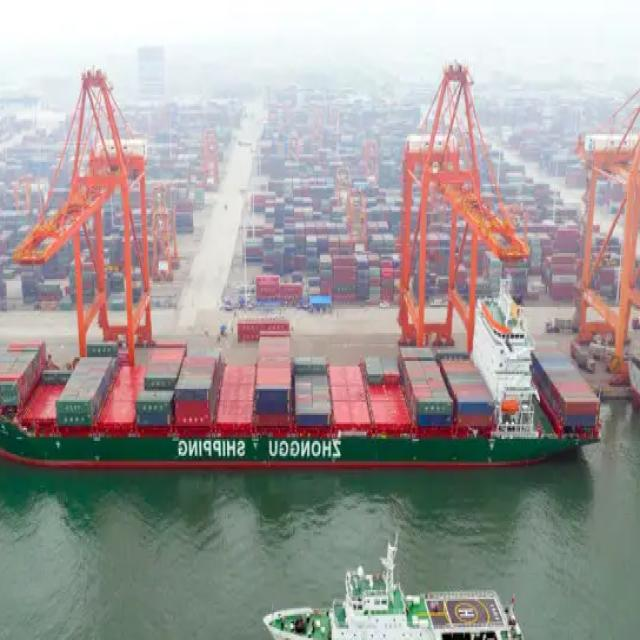cargoship: (0, 276, 604, 474)
passenger ship: (264, 547, 528, 640)
